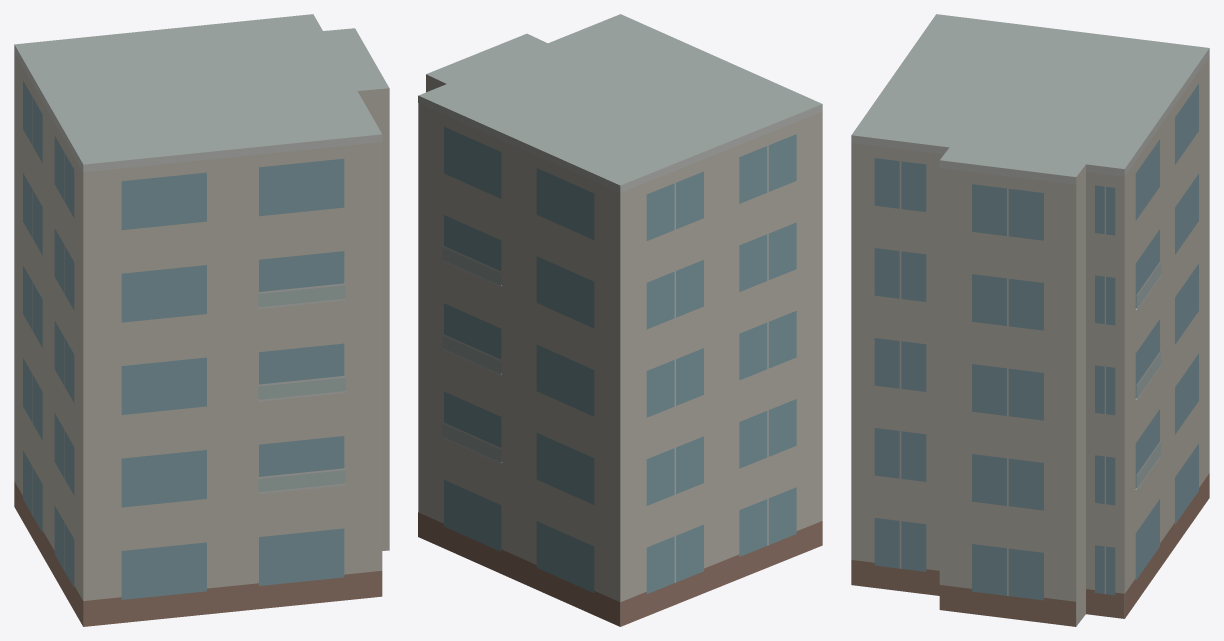
Rendered from survey-upis-32721594.glb.
3 renders of one model, left to right at view 1: azimuth 30°, elevation 25°; view 2: azimuth 150°, elevation 25°; view 3: azimuth 270°, elevation 25°, orthographic. The views are drawn at different scales.
Visible parts, largest first — view 1: survey-upis-32721594.tmp; view 2: survey-upis-32721594.tmp; view 3: survey-upis-32721594.tmp.
Boxes of the visible parts, <box> form: survey-upis-32721594.tmp: <box>14,14,389,626</box>; survey-upis-32721594.tmp: <box>418,14,822,626</box>; survey-upis-32721594.tmp: <box>851,14,1209,626</box>.
Bounding box in the file's own units: 11.33 × 14.55 × 10.52.
